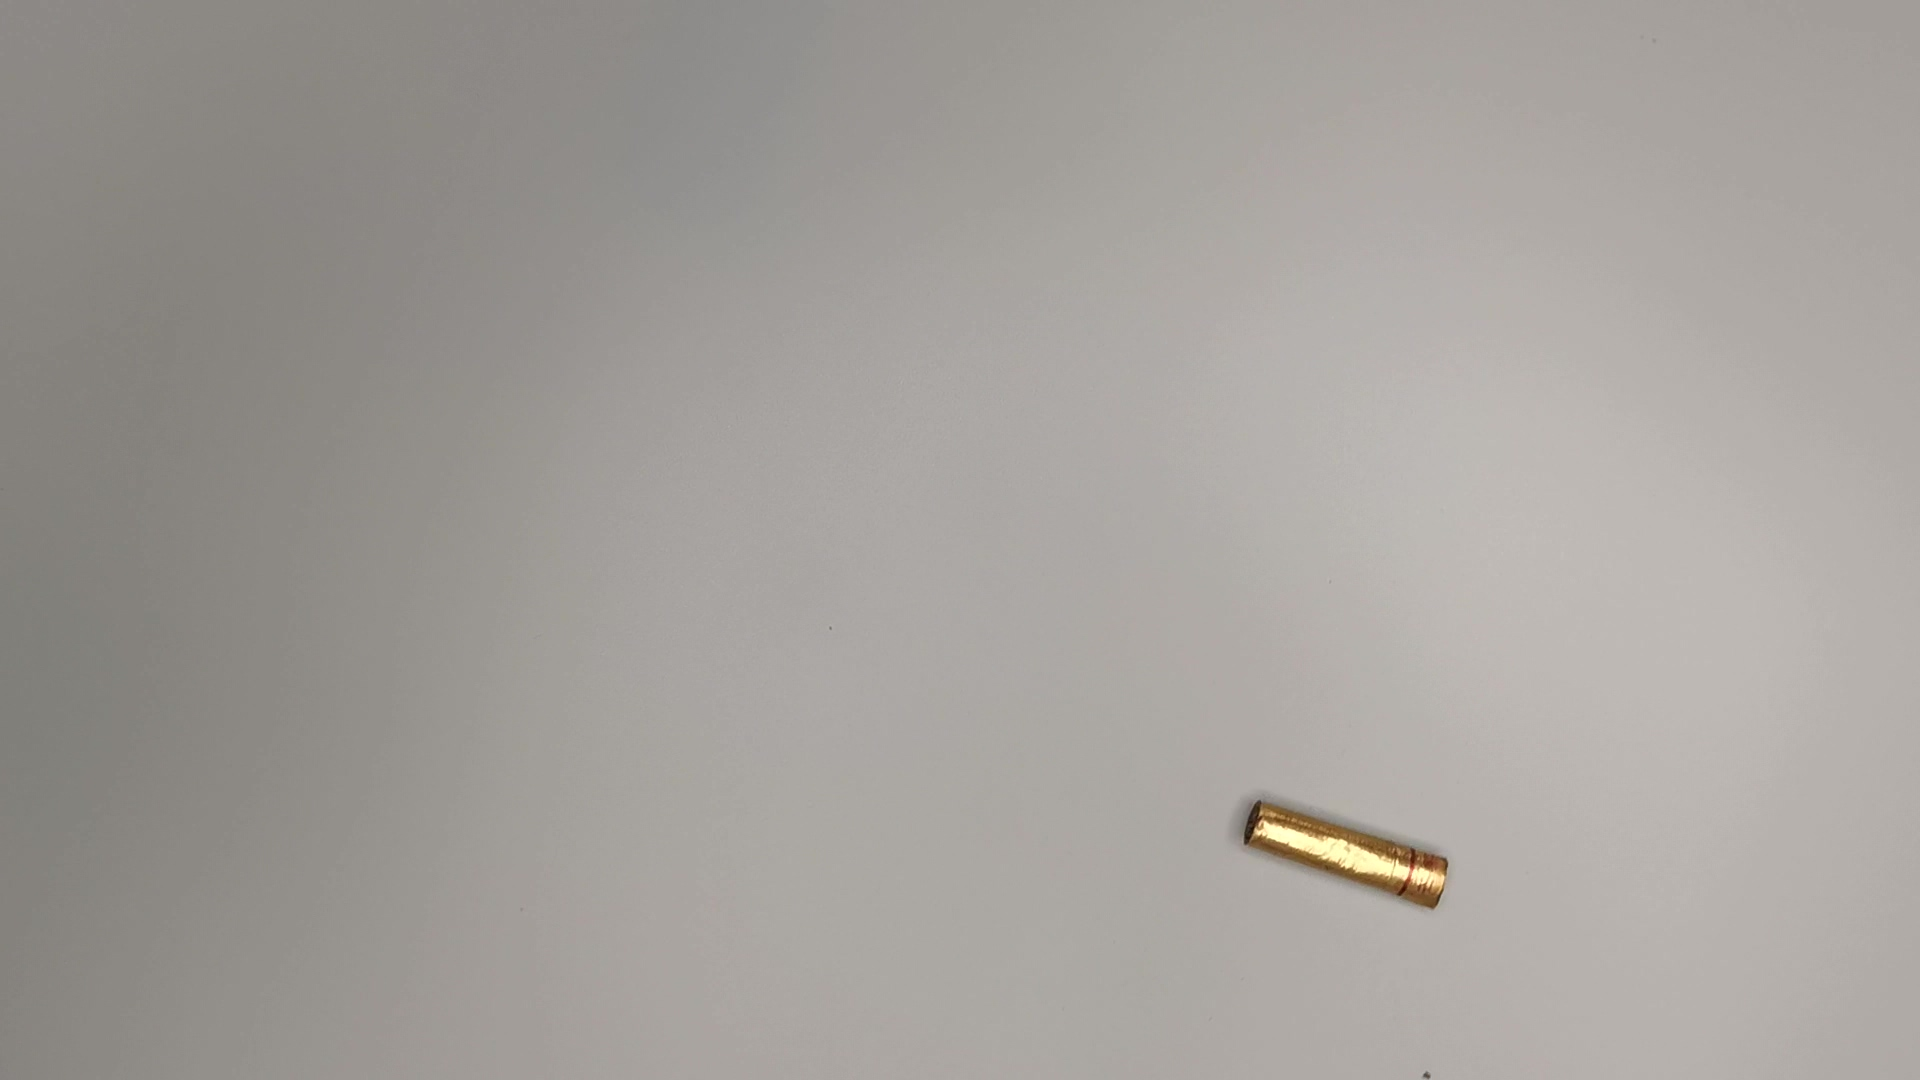cigarette: (1238, 800, 1464, 916)
